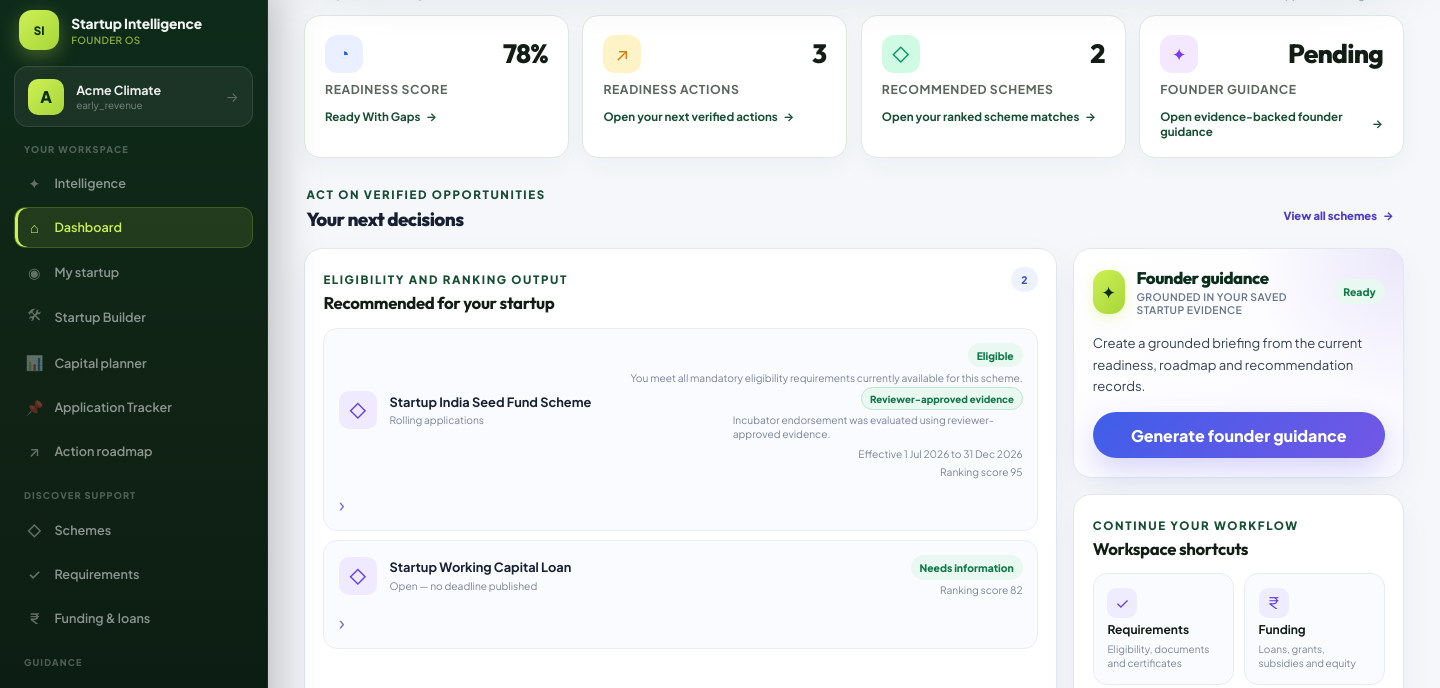
Test: functional user dashboard › queues missing guidance and opens the persisted result
(page scrolled)
Click the button "Generate founder guidance": (1239, 435) top-left (1093, 412), bottom-right (1385, 458)
(page scrolled)
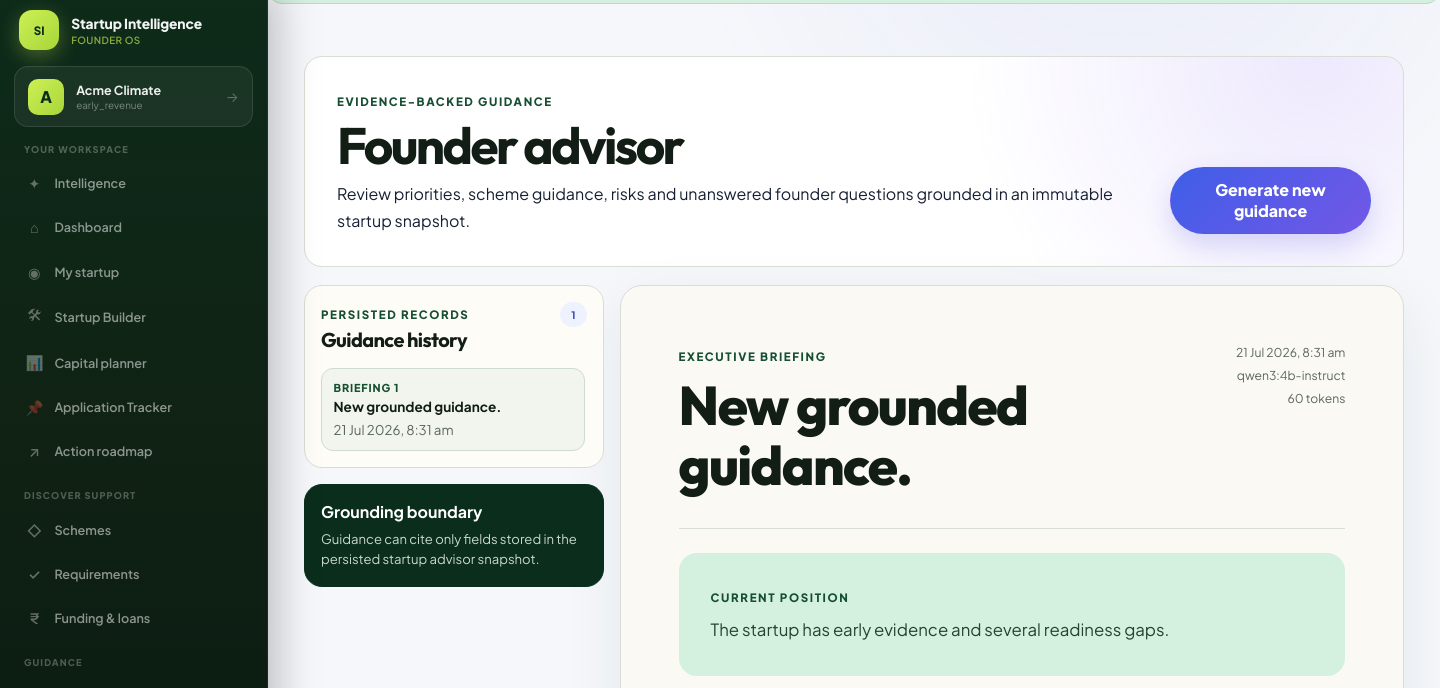
Expected: the heading "New grounded guidance." is shown, top-left (679, 371), bottom-right (1027, 499)
